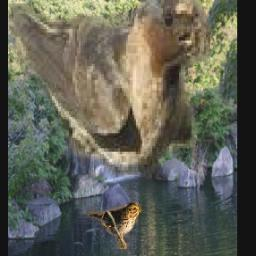Sparrow: (87, 200, 143, 249)
Swallow: (8, 0, 210, 181)
